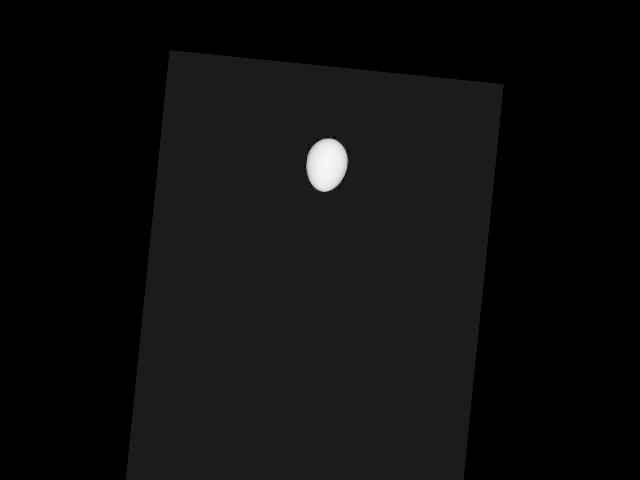egg: (303, 136, 349, 193)
